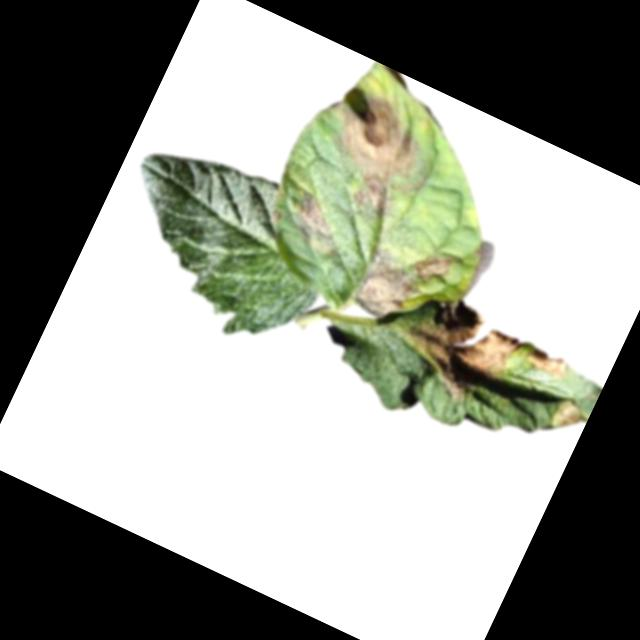Late_blight: (295, 78, 449, 227), (386, 283, 525, 415), (346, 241, 430, 329), (278, 187, 357, 263), (521, 340, 574, 384), (546, 392, 593, 441), (412, 245, 456, 289)
